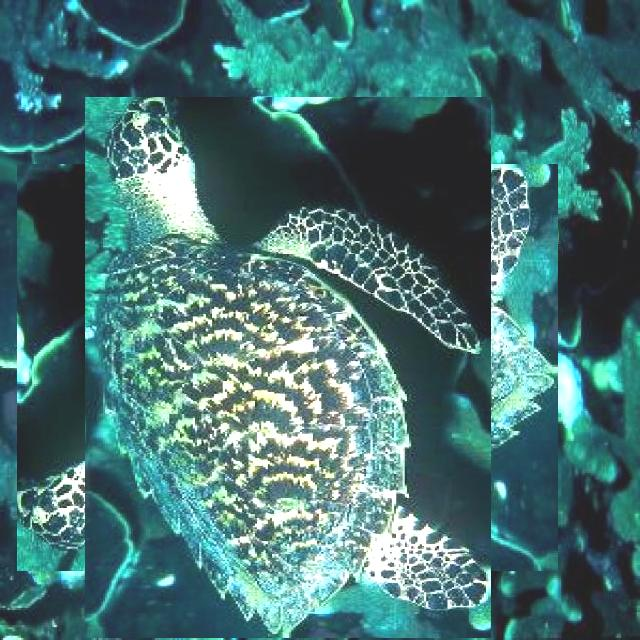Sea turtle: (51, 130, 524, 604)
